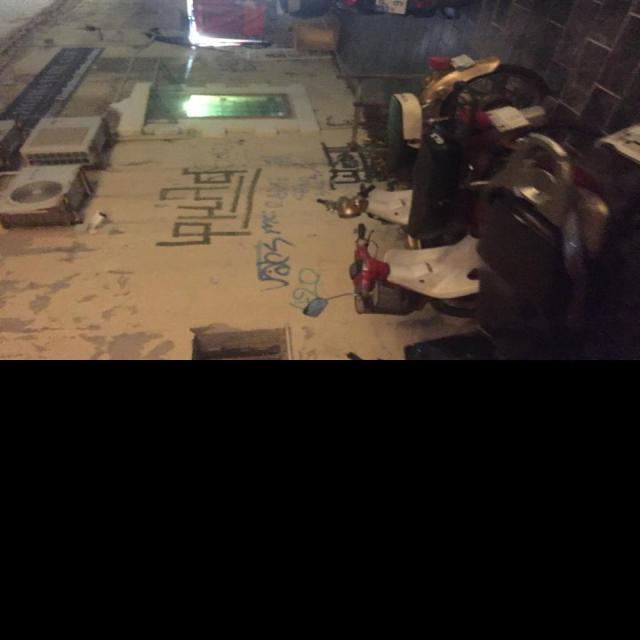nonspitting: (154, 166, 263, 248), (258, 211, 292, 292), (289, 266, 322, 312)
